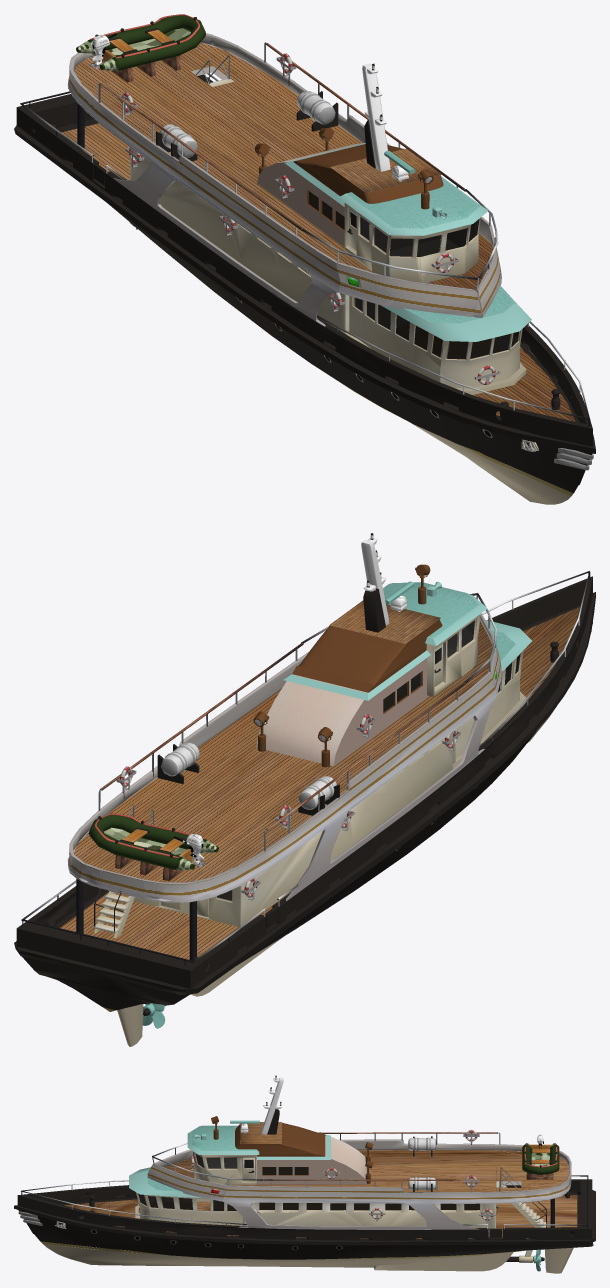
Rendered from boat-vex-yacht.glb.
3 renders of one model, top to bottom at view 1: azimuth 30°, elevation 25°; view 2: azimuth 150°, elevation 25°; view 3: azimuth 270°, elevation 25°, orthographic. The views are drawn at different scales.
Parts seen in each view (by area): view 1: Object_31, Object_14, Object_34, Object_30, Object_2, Object_33, Object_29, Object_12, Object_27, Object_15, Object_4, Object_16 (+3 smaller); view 2: Object_31, Object_14, Object_34, Object_30, Object_4, Object_12, Object_2, Object_29, Object_27, Object_15, Object_16, Object_38 (+2 smaller); view 3: Object_31, Object_34, Object_14, Object_30, Object_2, Object_4, Object_33, Object_29, Object_12, Object_27, Object_16, Object_38 (+4 smaller).
Part boxes in pixels (left/top/right/bottom): Object_31: left=14, top=17, right=595, bottom=493; Object_14: left=61, top=42, right=575, bottom=421; Object_34: left=129, top=78, right=571, bottom=504; Object_30: left=67, top=34, right=501, bottom=325; Object_2: left=136, top=143, right=531, bottom=341; Object_33: left=298, top=191, right=519, bottom=359; Object_29: left=69, top=33, right=500, bottom=326; Object_12: left=255, top=128, right=443, bottom=231; Object_27: left=20, top=42, right=590, bottom=426; Object_15: left=76, top=15, right=205, bottom=71; Object_4: left=257, top=143, right=364, bottom=247; Object_16: left=117, top=56, right=500, bottom=385; Object_31: left=14, top=533, right=595, bottom=1015; Object_14: left=60, top=600, right=579, bottom=959; Object_34: left=93, top=614, right=556, bottom=1046; Object_30: left=67, top=620, right=501, bottom=902; Object_4: left=256, top=658, right=429, bottom=766; Object_12: left=253, top=564, right=442, bottom=767; Object_2: left=142, top=581, right=531, bottom=1028; Object_29: left=69, top=613, right=500, bottom=902; Object_27: left=21, top=571, right=590, bottom=965; Object_15: left=89, top=813, right=218, bottom=870; Object_16: left=116, top=717, right=460, bottom=900; Object_38: left=100, top=642, right=466, bottom=880; Object_31: left=14, top=1075, right=595, bottom=1261; Object_34: left=43, top=1151, right=573, bottom=1273; Object_14: left=64, top=1122, right=577, bottom=1238; Object_30: left=147, top=1139, right=571, bottom=1229; Object_2: left=129, top=1120, right=541, bottom=1271; Object_4: left=257, top=1136, right=366, bottom=1184; Object_33: left=138, top=1152, right=479, bottom=1210; Object_29: left=154, top=1139, right=570, bottom=1229; Object_12: left=211, top=1116, right=373, bottom=1183; Object_27: left=21, top=1132, right=588, bottom=1228; Object_16: left=138, top=1134, right=495, bottom=1222; Object_38: left=263, top=1132, right=553, bottom=1180.
Size of the model in its own units: 22.7 by 39.29 by 105.
28 materials, 26 textured.
